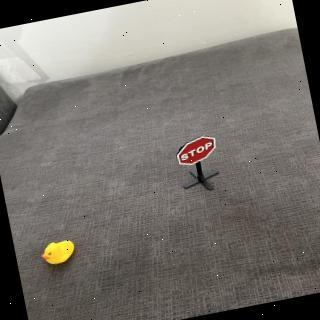duck_regular: (39, 237, 79, 268)
sign_stop: (174, 132, 221, 169)
